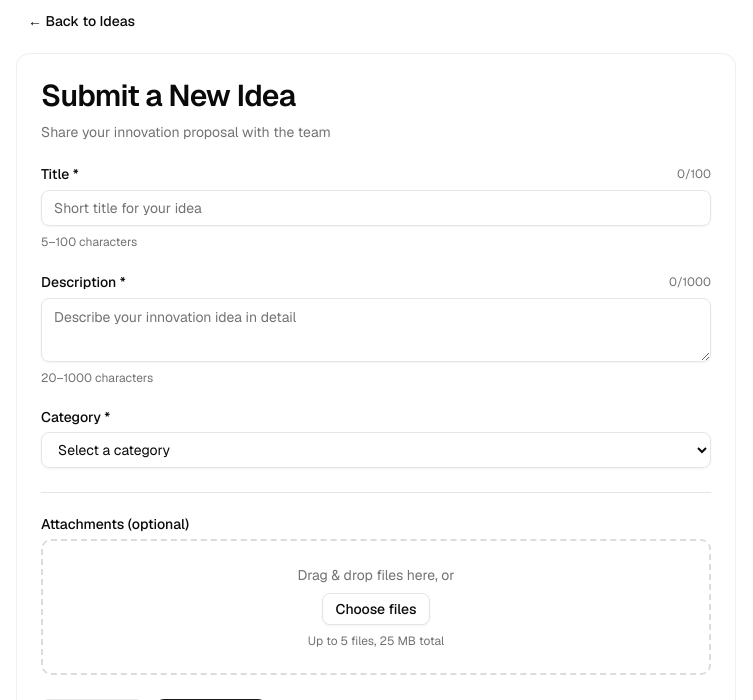
Test: NewIdeaPage — category edge cases › clears category fields when invalid category is selected
Note: Select valid category
Select "Cost Reduction" in the dropdown labelled "Category *" at (376, 450), box [41, 432, 711, 468]
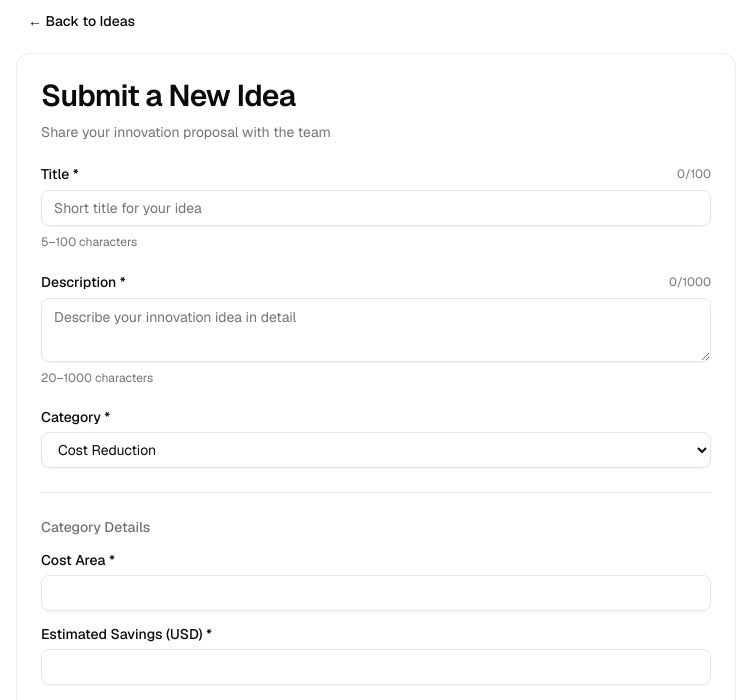
Result: the field labelled "Cost Area *" is shown at [41, 575, 711, 611]
Note: Select invalid category
Select "Nonexistent" in the dropdown labelled "Category *" at (376, 450), box [41, 432, 711, 468]
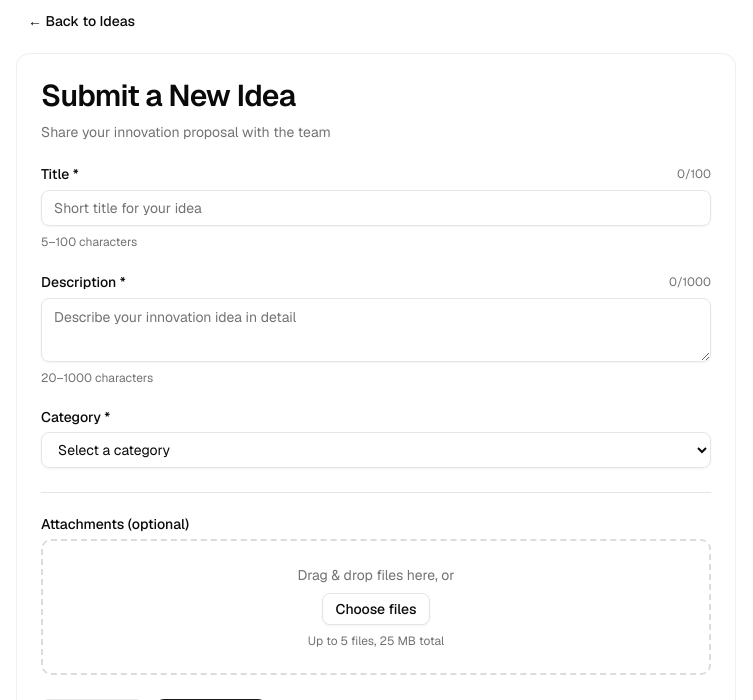
Result: the label labelled "Cost Area" is gone
Result: the heading "Category Details" is gone
